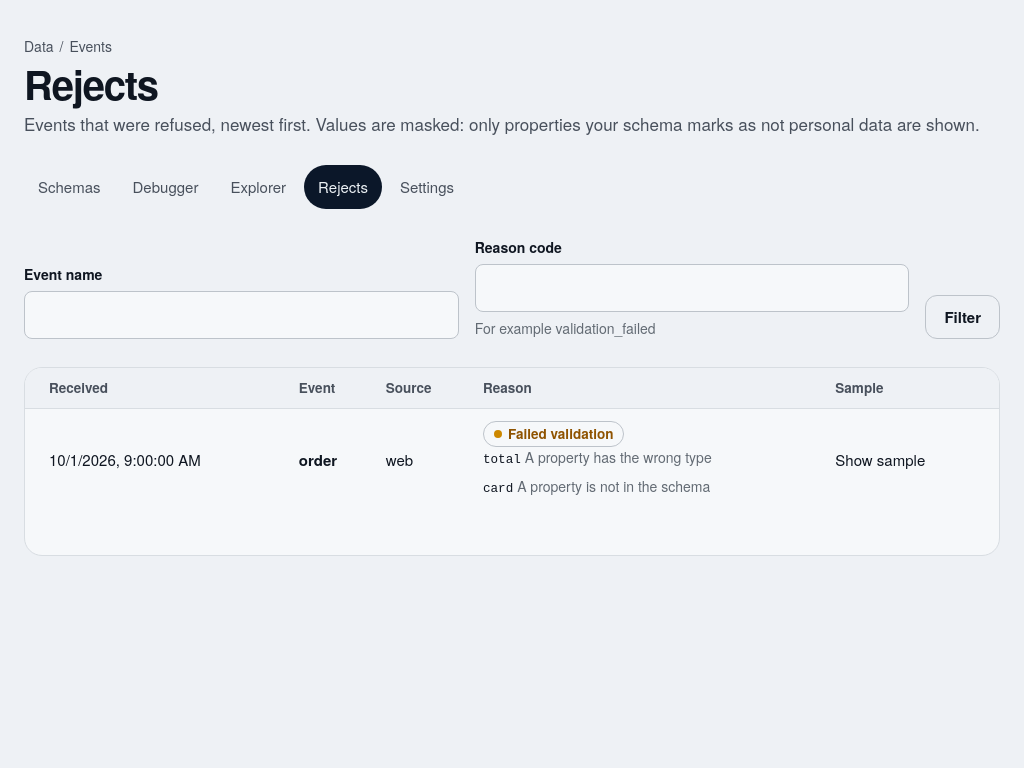
Test: rejects › lists the reason and each failing property, and expands a masked sample
Expected: the text "Failed validation" is shown, [483,421,624,447]
Expected: the text "A property has the wrong type" is shown, [525,447,712,467]
Click the heading "Show sample". click: click(893, 465)
box: [834,449,951,481]
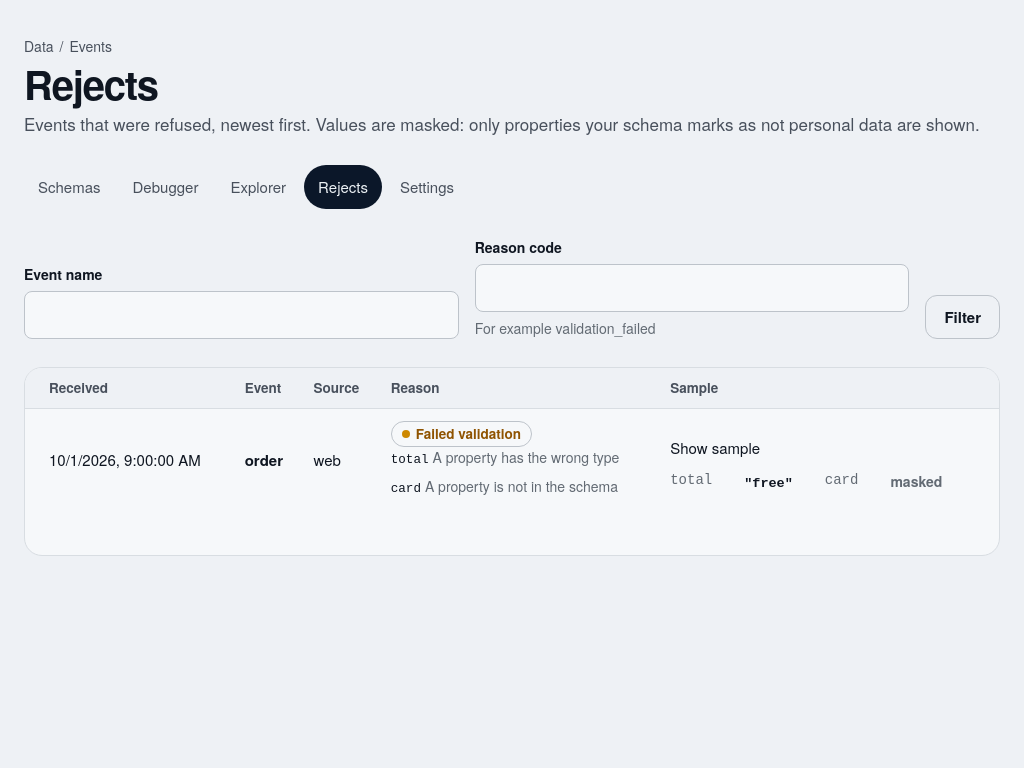
Now the text "\"free\"" is shown, box [744,476,793,491]
Now the text "masked" is shown, box [890,471,942,491]
